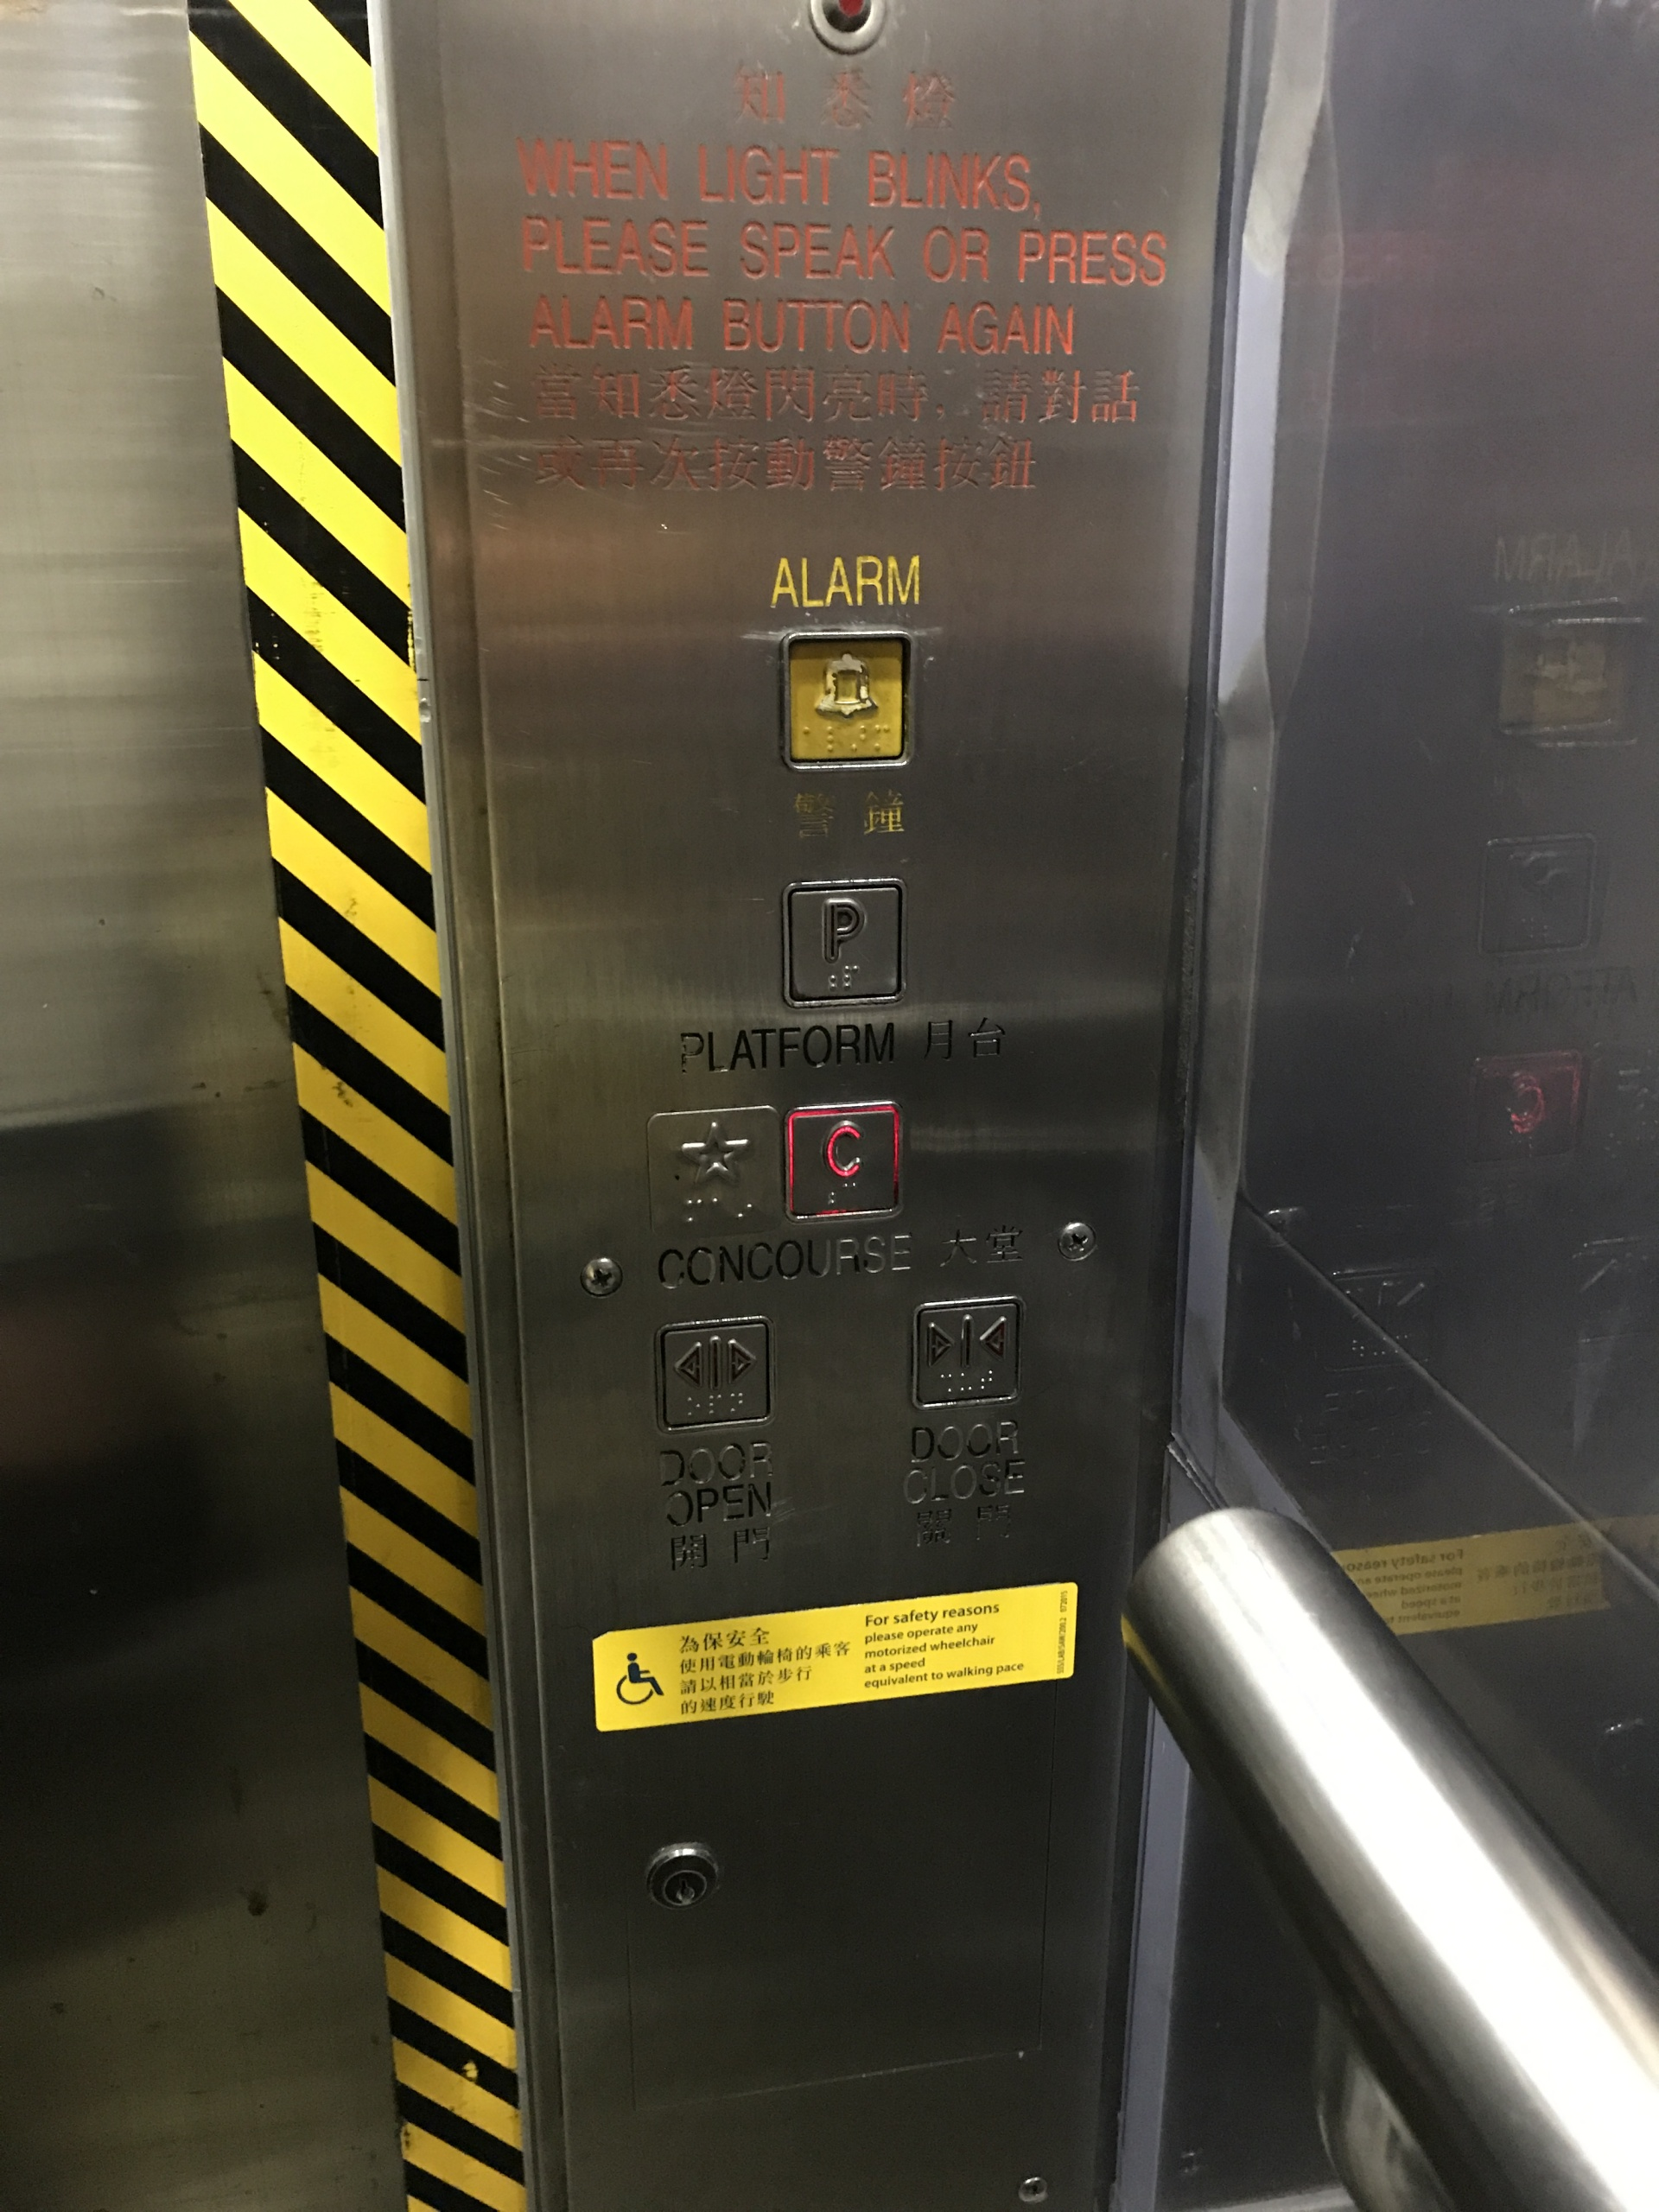C: (781, 1097, 908, 1224)
P: (775, 874, 911, 1010)
alarm: (777, 625, 918, 772)
close: (904, 1287, 1032, 1416)
open: (652, 1310, 779, 1439)
s: (641, 1099, 791, 1245)
